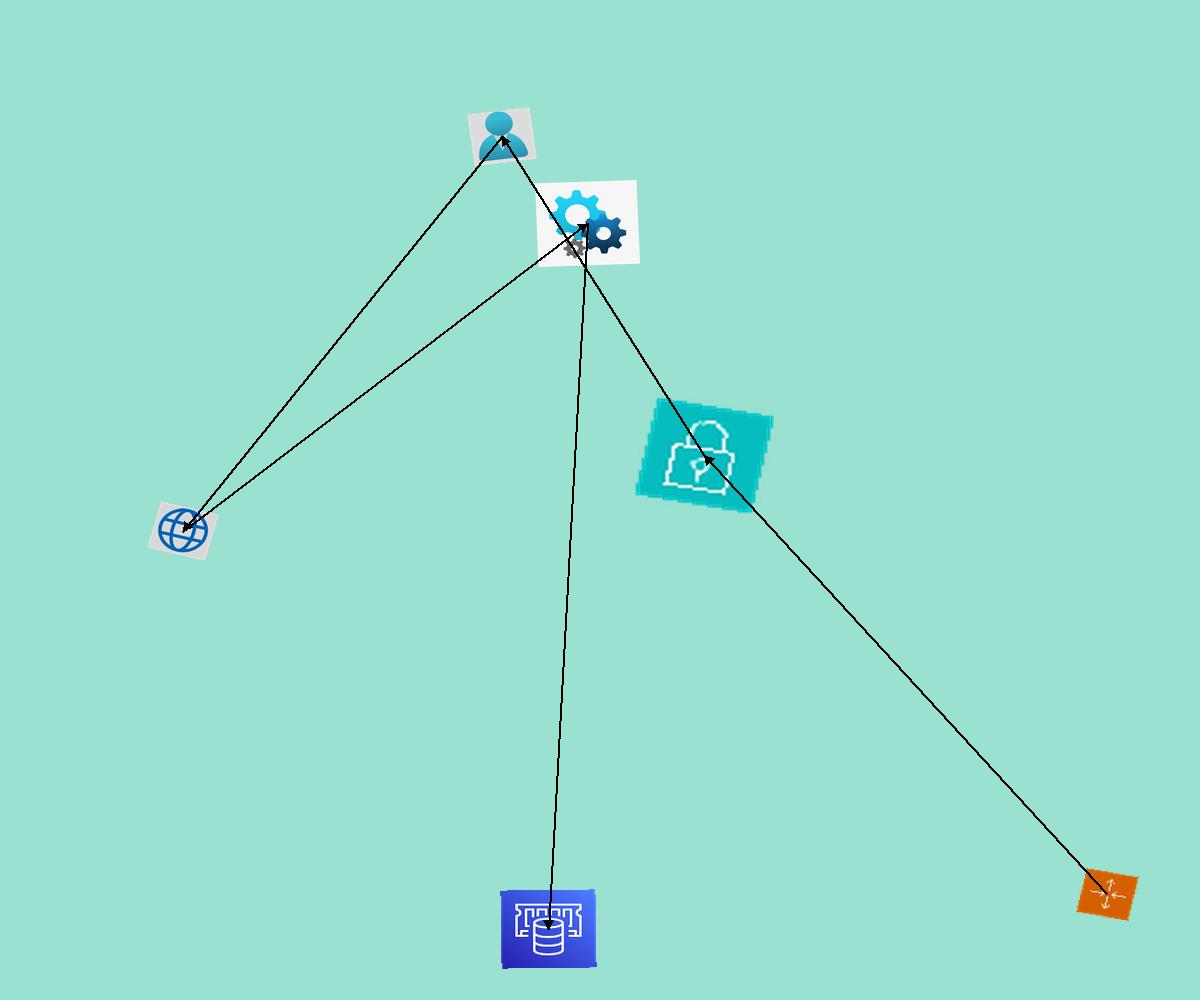AWS-ElastiCache: (500, 889, 597, 969)
AWS-Private-subnet: (633, 396, 776, 515)
AWS-Scaling-group: (1076, 868, 1139, 921)
Azure_api: (535, 180, 640, 267)
Azure_http: (147, 501, 219, 561)
Azure_users: (467, 107, 537, 166)
